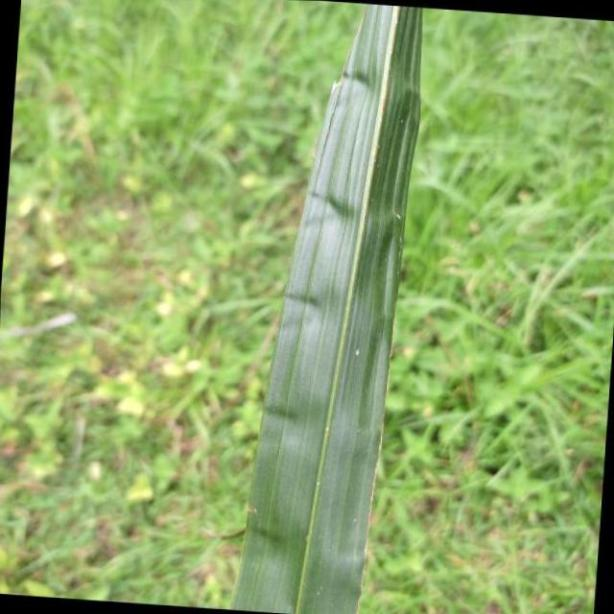Boron: (229, 0, 422, 614)
